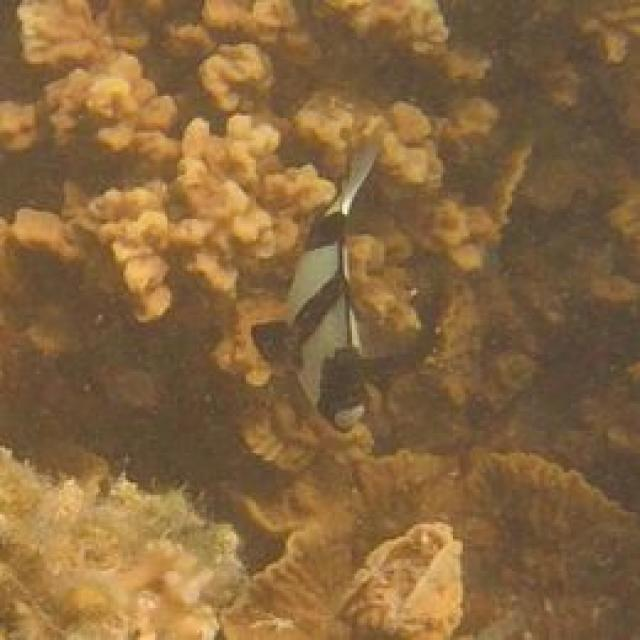Three_striped DasmselFish: (247, 137, 373, 432)
